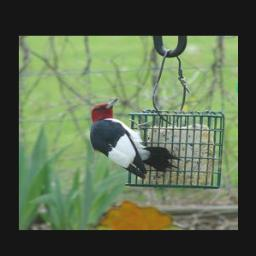Woodpecker: (91, 97, 182, 179)
